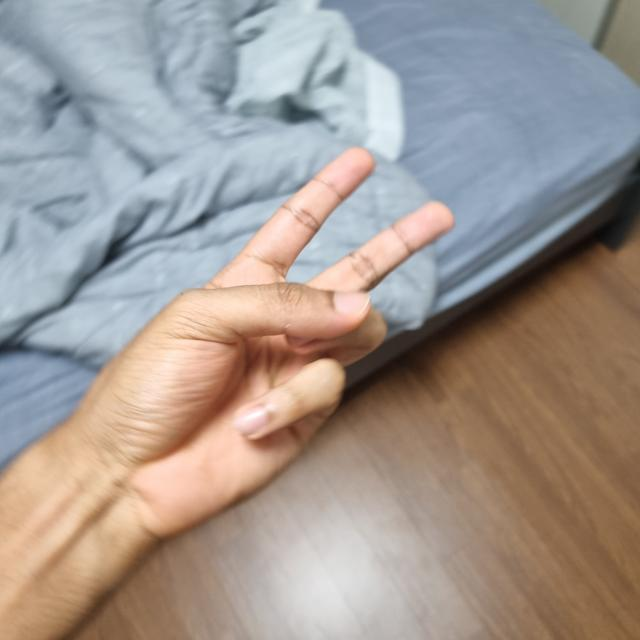Scissors: (86, 148, 448, 536)
